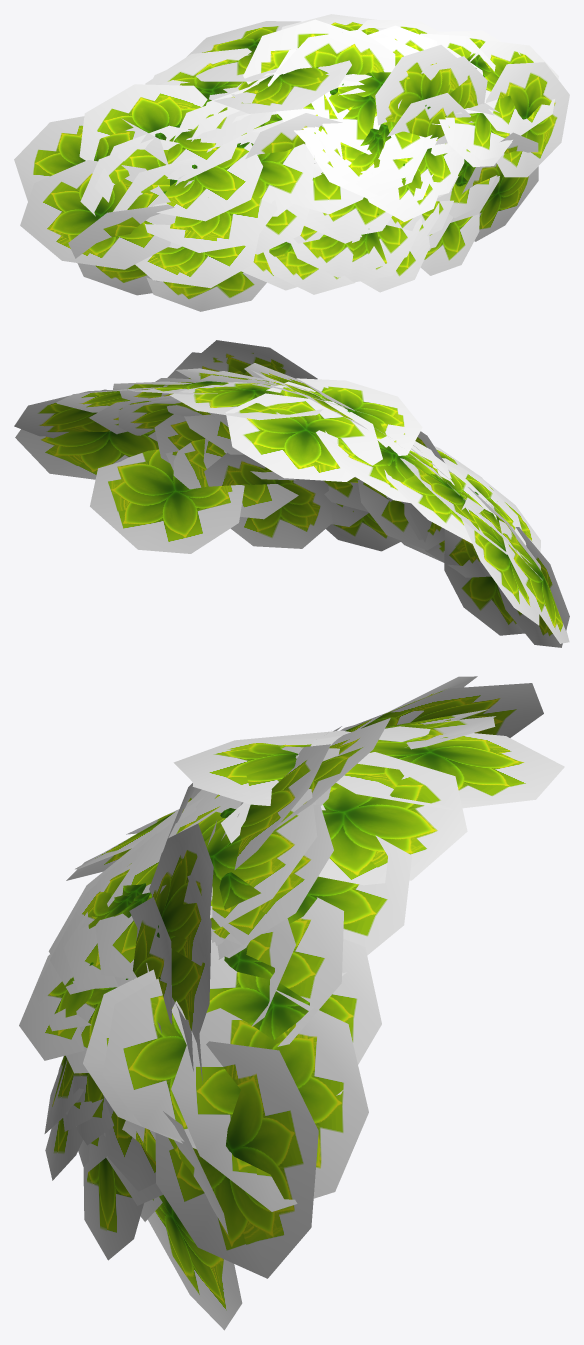
Rendered from Bush2.FBX.
3 views of the same model, one above another, from view 1: azimuth 30°, elevation 25°; view 2: azimuth 150°, elevation 25°; view 3: azimuth 270°, elevation 25° (orthographic). The views are drawn at different scales.
Parts seen in each view (by area): view 1: Box001; view 2: Box001; view 3: Box001.
Part boxes in pixels (x1,y1,x2,y2): Box001: (14,14,569,311); Box001: (14,340,569,647); Box001: (19,676,564,1330).
Bounding box in the file's own units: 90.19 × 36.96 × 41.41.
